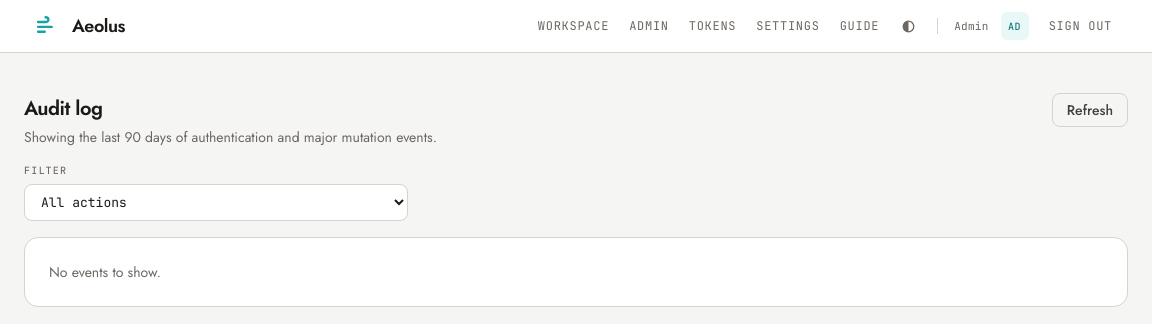
Scenario: AdminAuditRoute — loading and empty states › names the active action filter when it hides everything
This screenshot has width=1152, height=324.
Expected: the text "No events to show." is shown, [24, 237, 1128, 307]
Step 1. Select "Templates" in the dropdown with test id "audit-filter" → point(216, 202), box [24, 184, 408, 221]
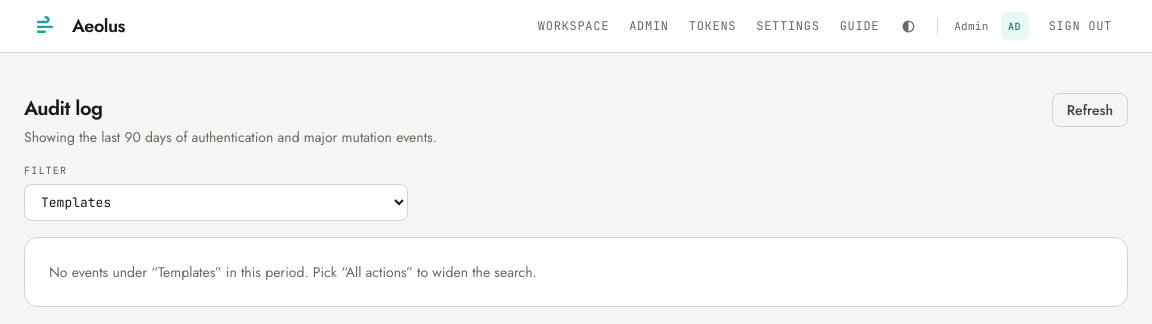
Expected: the text with test id "audit-empty" shows "No events under “Templates” in this period. Pick “All actions” to widen the search.", [49, 262, 537, 282]
